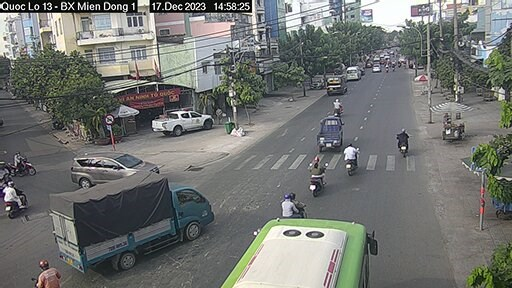bus: (227, 192, 369, 288)
car: (64, 138, 161, 181), (149, 103, 224, 141), (317, 72, 348, 100), (343, 62, 369, 88)
motorbike: (280, 189, 309, 219), (308, 153, 327, 194), (339, 142, 361, 176), (396, 123, 412, 153)
truck: (25, 171, 218, 265), (310, 112, 350, 149)
